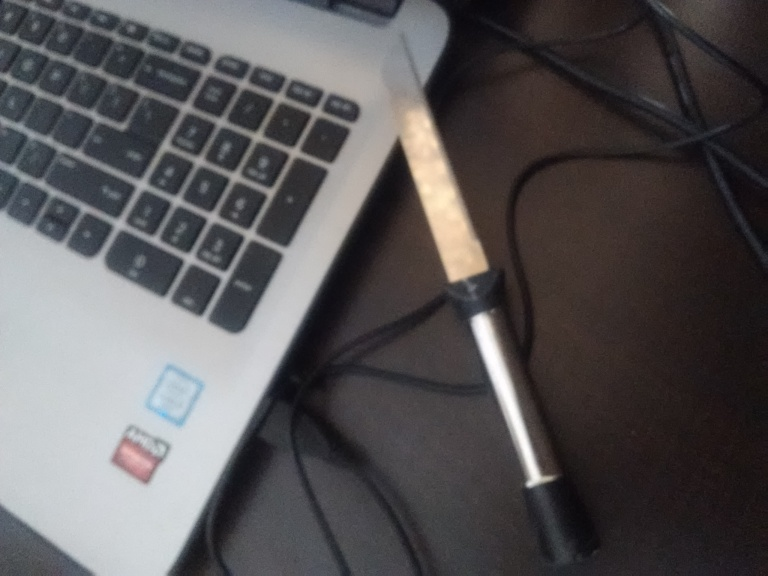knife: (376, 31, 607, 567)
